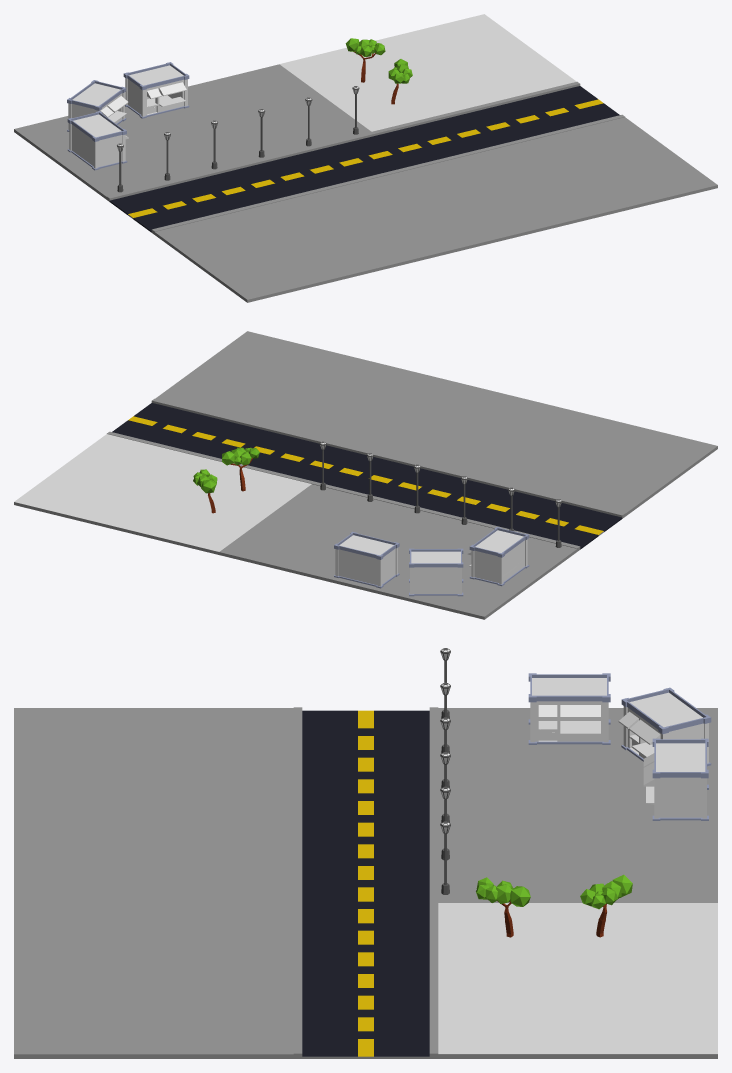
Rendered from environment.fbx.
The picture shows the model from 3 angles, top to bottom: view 1: azimuth 30°, elevation 25°; view 2: azimuth 150°, elevation 25°; view 3: azimuth 270°, elevation 25°; orthographic projection. The views are drawn at different scales.
Parts seen in each view (by area): view 1: Plane, Plane.001, Plane.002, Cube, Cube.010, Cube.009, Cylinder, Cube.008, Cube.019; view 2: Plane, Plane.002, Plane.001, Cube, Cube.010, Cube.009, Cylinder, Cube.019, Cube.008; view 3: Plane, Plane.002, Plane.001, Cube.010, Cube, Cube.009, Cylinder, Cube.019, Cube.008.
Boxes of the visible parts, bbox=[...] form: Plane: bbox=[14, 64, 717, 302]; Plane.001: bbox=[326, 48, 576, 131]; Plane.002: bbox=[279, 14, 530, 98]; Cube: bbox=[123, 62, 189, 118]; Cube.010: bbox=[67, 111, 128, 170]; Cube.009: bbox=[67, 80, 128, 131]; Cylinder: bbox=[117, 86, 359, 192]; Cube.008: bbox=[345, 38, 385, 82]; Cube.019: bbox=[388, 59, 412, 104]; Plane: bbox=[14, 331, 717, 619]; Plane.002: bbox=[14, 468, 265, 551]; Plane.001: bbox=[61, 434, 311, 517]; Cube: bbox=[334, 531, 399, 588]; Cube.010: bbox=[467, 527, 529, 586]; Cube.009: bbox=[409, 548, 463, 596]; Cylinder: bbox=[319, 441, 562, 547]; Cube.019: bbox=[222, 447, 259, 491]; Cube.008: bbox=[193, 469, 217, 513]; Plane: bbox=[14, 707, 717, 1058]; Plane.002: bbox=[577, 903, 717, 1053]; Plane.001: bbox=[438, 903, 577, 1053]; Cube.010: bbox=[528, 673, 610, 744]; Cube: bbox=[643, 738, 708, 820]; Cube.009: bbox=[618, 687, 711, 766]; Cylinder: bbox=[440, 648, 450, 894]; Cube.019: bbox=[476, 877, 530, 937]; Cube.008: bbox=[580, 874, 632, 937].
Size of the model in its own units: 12161 by 1237 by 10451.
